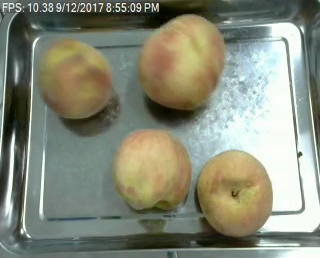Peach: (139, 13, 227, 111), (196, 149, 273, 238), (112, 128, 191, 210), (36, 36, 113, 120)
